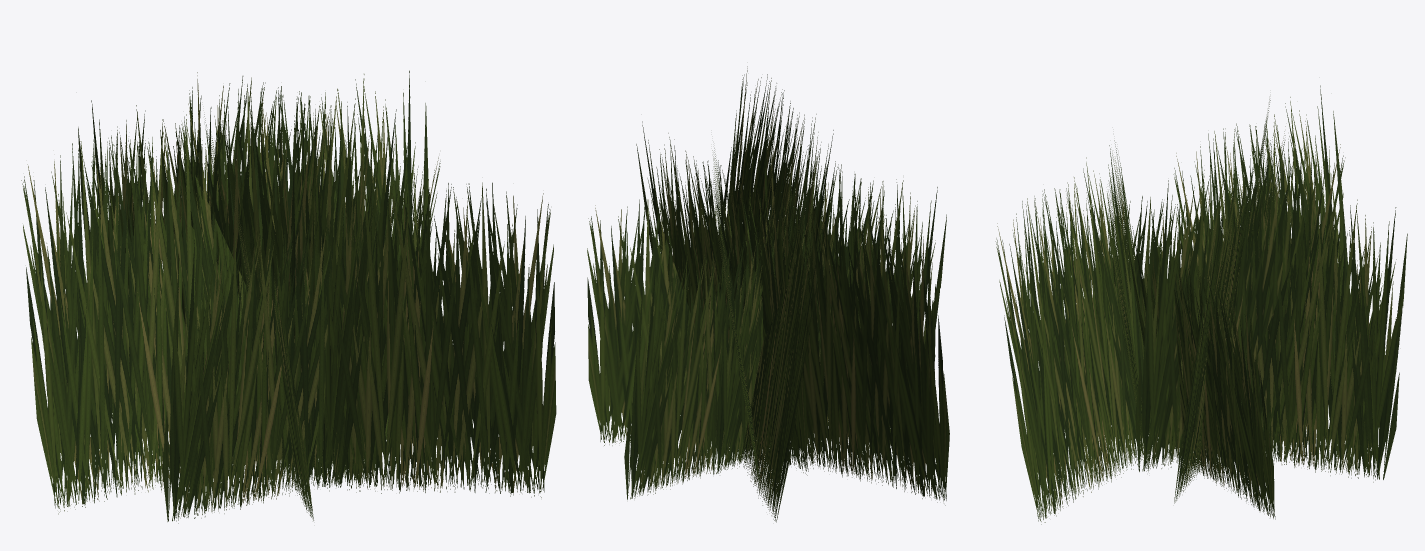
File: GrassClump_0.fbx
The picture shows the model from 3 angles, left to right: view 1: azimuth 30°, elevation 25°; view 2: azimuth 150°, elevation 25°; view 3: azimuth 270°, elevation 25°; orthographic projection. The views are drawn at different scales.
Visible parts, largest first — view 1: GrassClump_0; view 2: GrassClump_0; view 3: GrassClump_0.
Part boxes in pixels (<box>): GrassClump_0: <box>21,70,556,523</box>; GrassClump_0: <box>587,66,949,522</box>; GrassClump_0: <box>995,85,1407,524</box>.
Size of the model in its own units: 0.4591 by 0.4291 by 0.4553.
